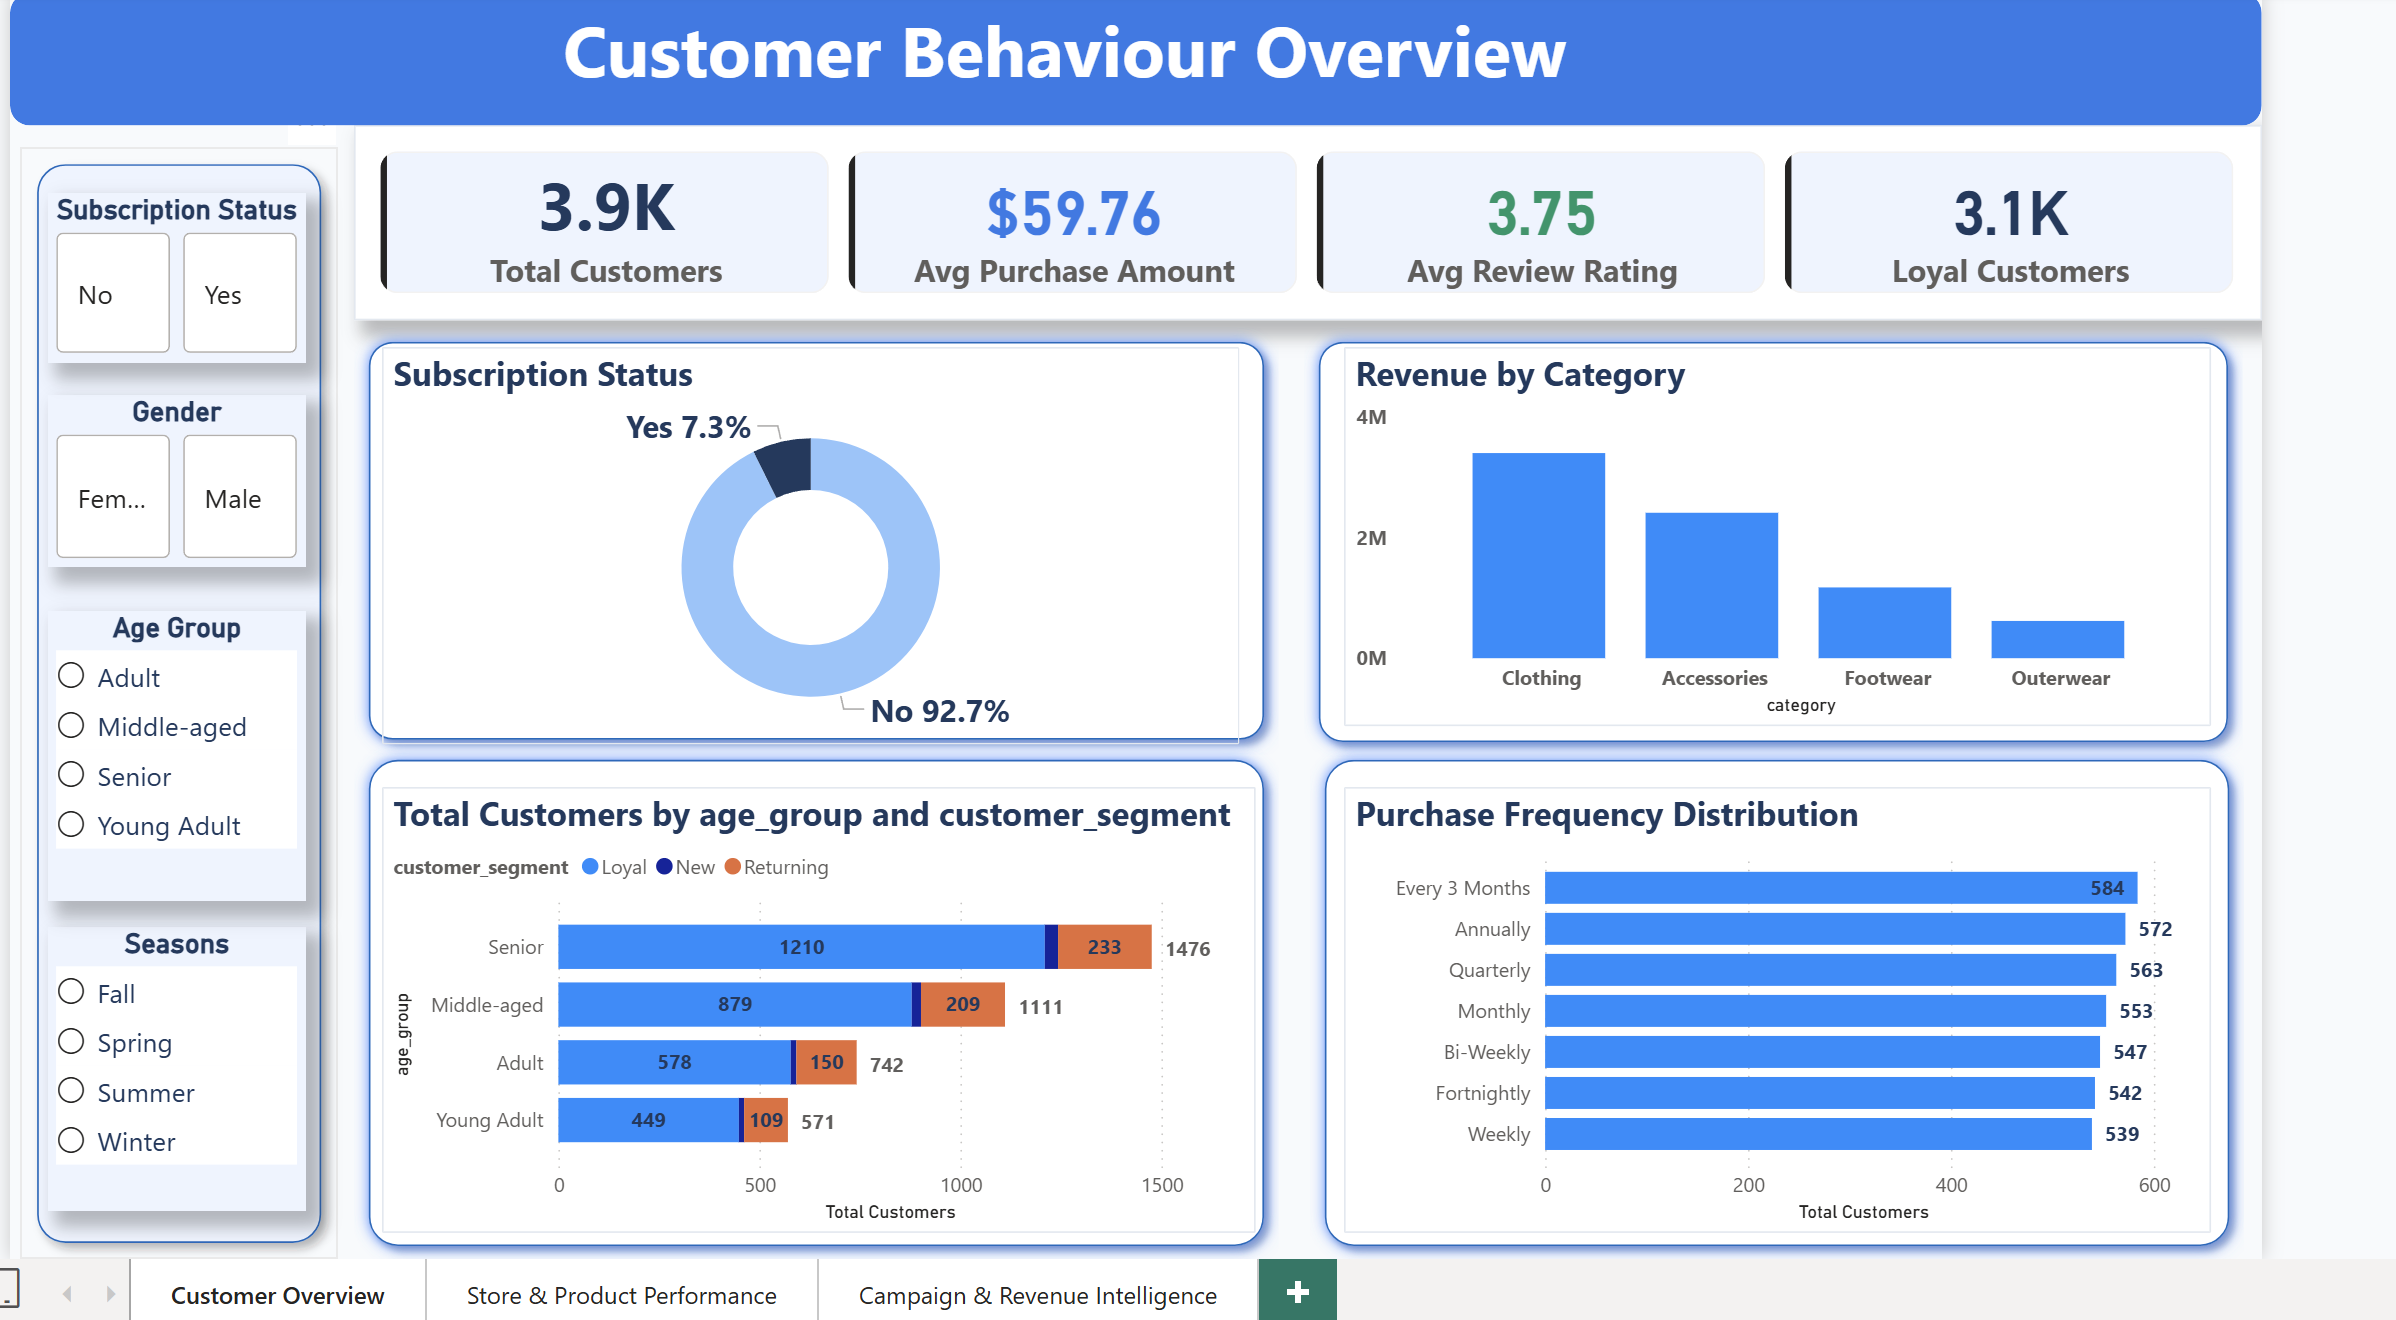

The dashboard page shown, as its layout file describes it:
{"tool":"powerbi","page":{"name":"Customer Overview","canvas":[1366,768],"ordinal":0},"visuals":[{"type":"shape","box":[5.6,93,193.1,675.2],"z":0},{"type":"cardVisual","fields":{"Data":["_Measure.Total Customers","_Measure.Avg Purchase Amount","_Measure.Avg Review Rating","_Measure.Loyal Customers"]},"box":[208.6,80.4,1157.4,118.4],"z":1000},{"type":"advancedSlicerVisual","title":"Subscription Status","fields":{"Values":["customer.subscription_status"]},"box":[22.6,121.2,156.5,102.9],"z":2000},{"type":"advancedSlicerVisual","title":"Gender","fields":{"Values":["customer.gender"]},"box":[22.6,243.9,156.5,104.3],"z":3000},{"type":"listSlicer","title":"Age Group","fields":{"Values":["customer.age_group"]},"box":[22.6,375,156.5,176.2],"z":4000},{"type":"listSlicer","title":"Seasons","fields":{"Values":["customer.season"]},"box":[22.6,566.7,156.5,172],"z":5000},{"type":"shape","box":[785.2,203,569.5,260.8],"z":6000},{"type":"clusteredColumnChart","title":"Revenue by Category","fields":{"Y":["Sum(customer.customer_id)"],"Category":["customer.category"]},"box":[809.2,214.3,525.8,229.8],"z":7000},{"type":"shape","box":[208.6,456.7,561.1,313],"z":7500},{"type":"barChart","fields":{"Series":["customer.customer_segment"],"Y":["_Measure.Total Customers"],"Category":["customer.age_group"]},"box":[225.6,482.1,530,270.7],"z":8000},{"type":"shape","box":[788,456.7,566.7,313],"z":8500},{"type":"clusteredBarChart","title":"Purchase Frequency Distribution","fields":{"Category":["customer.frequency_of_purchases"],"Y":["_Measure.Total Customers"]},"box":[809.2,482.1,525.8,270.7],"z":9000},{"type":"shape","box":[208.6,203,561.1,259.4],"z":10000},{"type":"donutChart","title":"Subscription Status","fields":{"Category":["customer.subscription_status"],"Y":["Sum(customer.customer_id)"]},"box":[225.6,214.3,520.2,241.1],"z":11000},{"type":"shape","box":[0,0,1366,80.4],"z":12000},{"type":"textbox","box":[0,0,1280,81.6],"z":13000}]}

Visuals, with their boxes in screenshot pixels (x1, y1, x2, y2):
shape: <bbox>34, 140, 351, 1246</bbox>
cardVisual - _Measure.Total Customers x _Measure.Avg Purchase Amount: <bbox>367, 119, 2263, 313</bbox>
"Subscription Status" advancedSlicerVisual: <bbox>62, 186, 318, 355</bbox>
"Gender" advancedSlicerVisual: <bbox>62, 387, 318, 558</bbox>
"Age Group" listSlicer: <bbox>62, 602, 318, 891</bbox>
"Seasons" listSlicer: <bbox>62, 916, 318, 1198</bbox>
shape: <bbox>1311, 320, 2244, 747</bbox>
"Revenue by Category" clusteredColumnChart: <bbox>1351, 339, 2212, 715</bbox>
shape: <bbox>367, 736, 1286, 1249</bbox>
barChart - customer.customer_segment x _Measure.Total Customers: <bbox>395, 777, 1263, 1221</bbox>
shape: <bbox>1316, 736, 2244, 1249</bbox>
"Purchase Frequency Distribution" clusteredBarChart: <bbox>1351, 777, 2212, 1221</bbox>
shape: <bbox>367, 320, 1286, 745</bbox>
"Subscription Status" donutChart: <bbox>395, 339, 1247, 734</bbox>
shape: <bbox>25, 0, 2263, 119</bbox>
textbox: <bbox>25, 0, 2122, 121</bbox>
